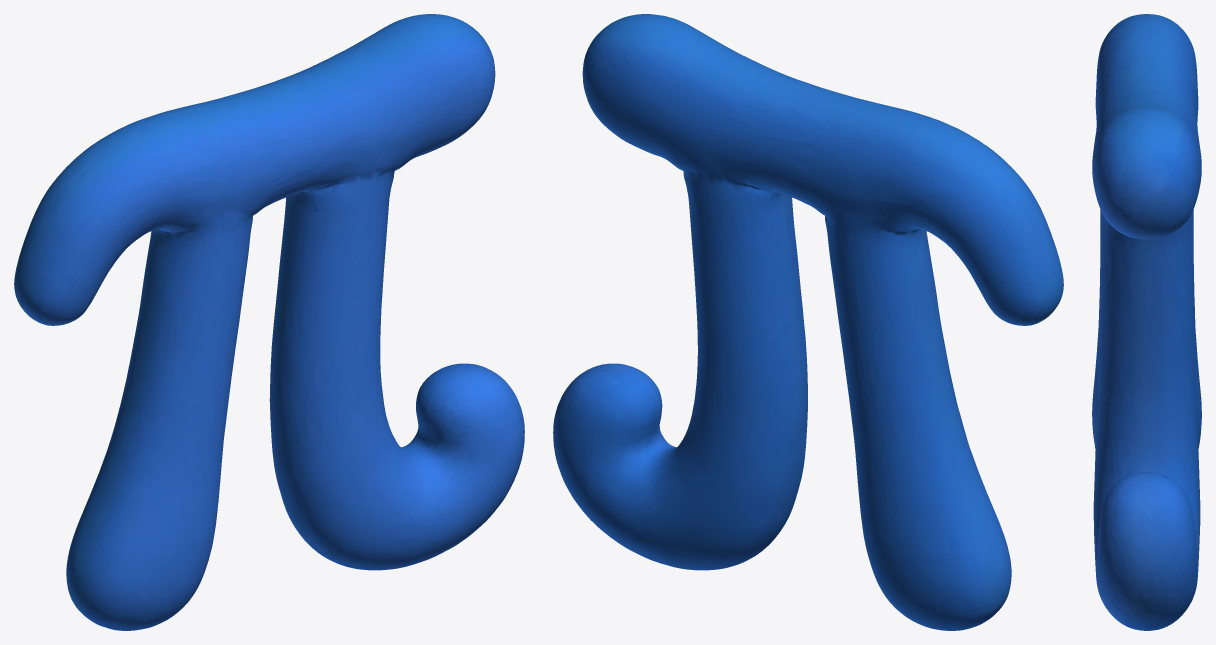
The picture shows the model from 3 angles, left to right: view 1: azimuth 30°, elevation 25°; view 2: azimuth 150°, elevation 25°; view 3: azimuth 270°, elevation 25°; orthographic projection. The views are drawn at different scales.
Visible parts, largest first — view 1: Mesh_0; view 2: Mesh_0; view 3: Mesh_0.
Part boxes in pixels (box(x1,y1,x2,y2)): Mesh_0: box(14, 14, 524, 630); Mesh_0: box(553, 14, 1063, 630); Mesh_0: box(1092, 14, 1201, 630).
Bounding box in the file's own units: 1.85 × 1.9 × 0.3683.
Materials: 1 (1 with a texture image).
